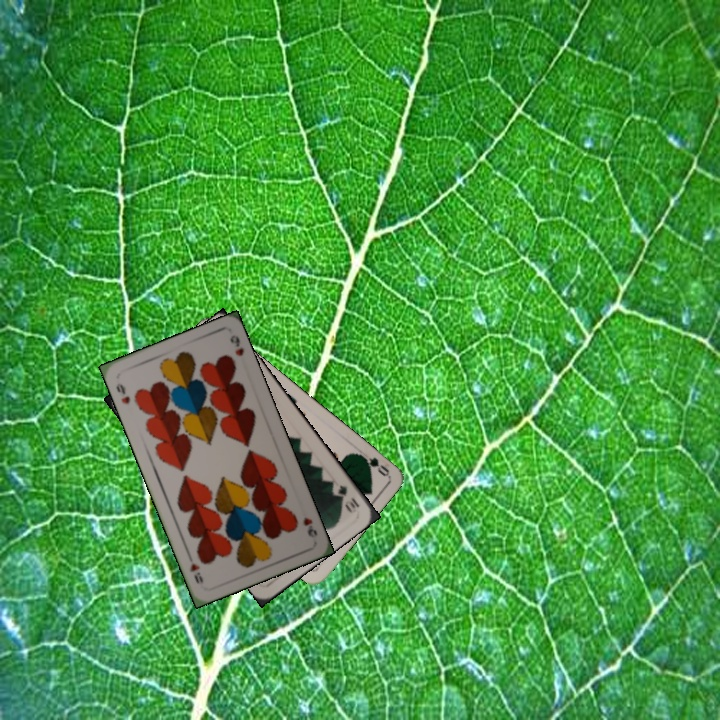G10: (333, 481, 362, 515)
GO: (354, 450, 392, 479)
H9: (299, 513, 320, 540), (112, 379, 133, 406)
